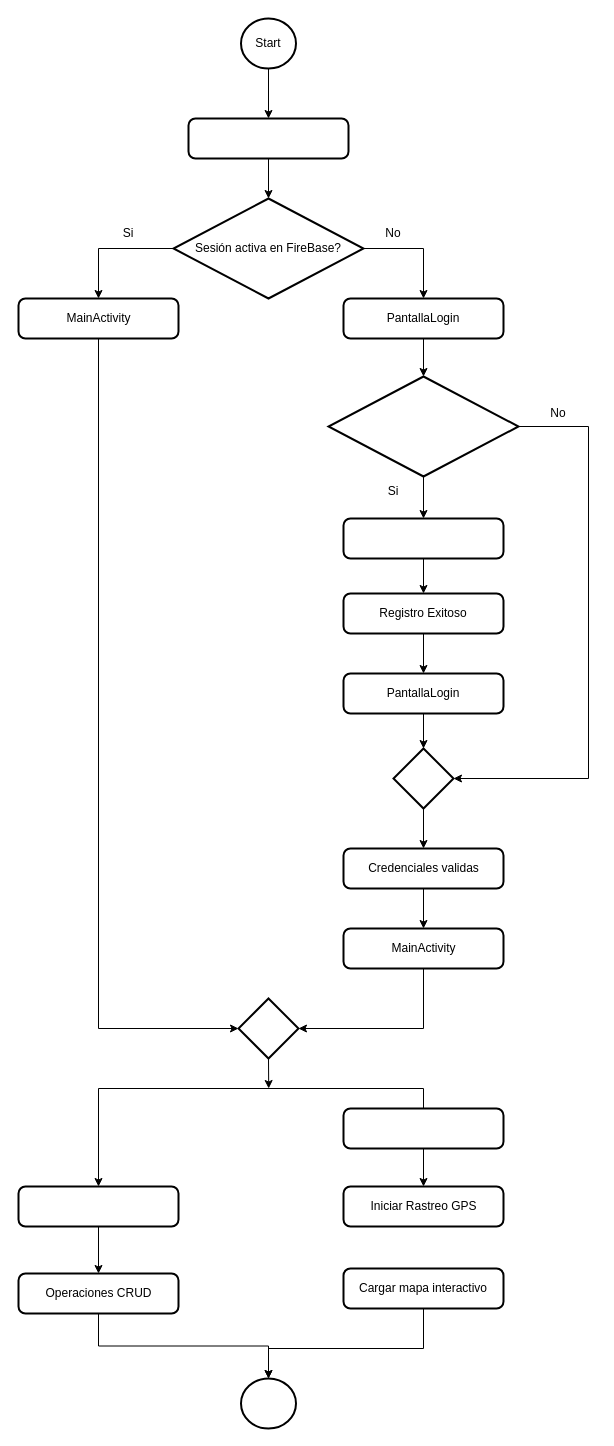
Some shapes in this 614 by 1446 pixel diagram are drawn without their labels. The shapes that lost their labels are listed below. From the top down, each one's centre as x and y in pixels, then its label:
point (268, 138): Pantalla de inicio
point (423, 426): Requiere una nueva cuenta?
point (423, 538): PantallaRegistro
point (423, 1128): PantallaActividadFisica
point (98, 1206): Gestionar habitos
point (268, 1403): End
